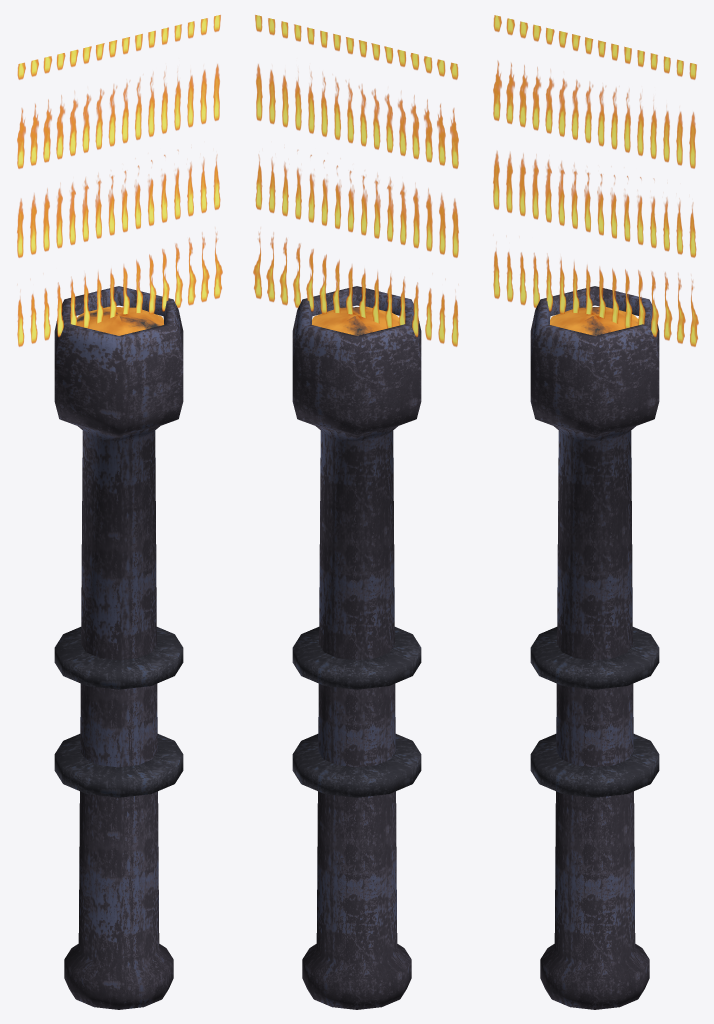
The model's file is mm6_deco_irontorch_free.glb.
3 renders of one model, left to right at view 1: azimuth 30°, elevation 25°; view 2: azimuth 150°, elevation 25°; view 3: azimuth 330°, elevation 25°, orthographic.
Visible parts, largest first — view 1: IronTorchFree; view 2: IronTorchFree; view 3: IronTorchFree.
Boxes of the visible parts, x1,y1,x2,y2 form: IronTorchFree: [17, 15, 222, 1009]; IronTorchFree: [253, 15, 458, 1009]; IronTorchFree: [493, 15, 698, 1009].
Size of the model in its own units: 0.3672 by 1.59 by 0.1958.
Materials: 4 (4 with a texture image).
